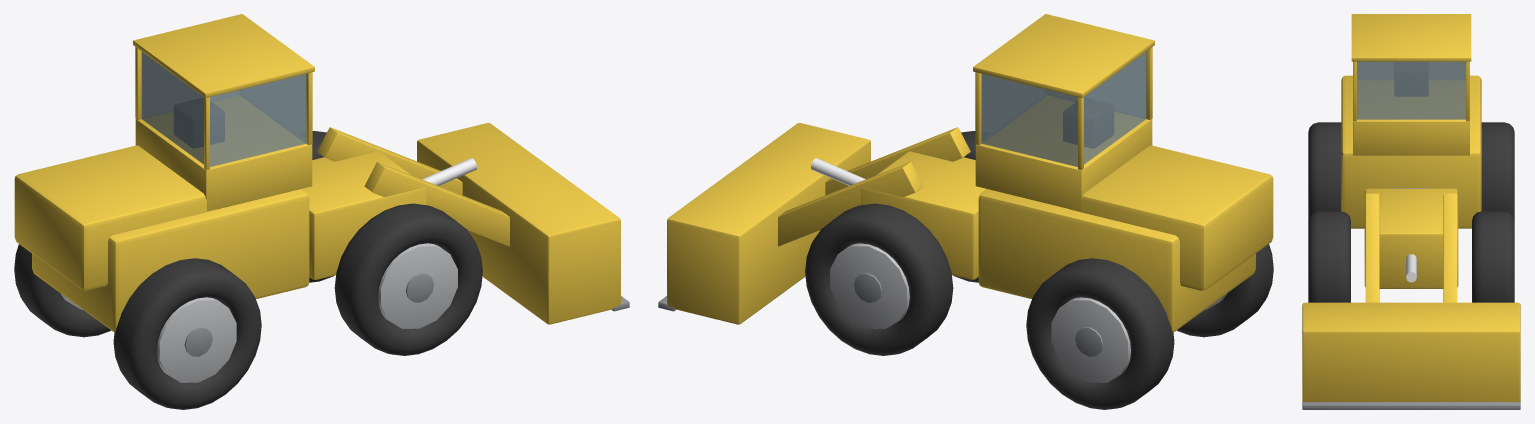
The model's file is EQP-TER-003_anim.glb.
3 views of the same model, side by side, from view 1: azimuth 30°, elevation 25°; view 2: azimuth 150°, elevation 25°; view 3: azimuth 270°, elevation 25° (orthographic). The views are drawn at different scales.
Visible parts, largest first — view 1: EQP-TER-003_anim6, EQP-TER-003_anim5, EQP-TER-003_anim0, EQP-TER-003_anim2, EQP-TER-003_anim4, EQP-TER-003_anim3; view 2: EQP-TER-003_anim6, EQP-TER-003_anim5, EQP-TER-003_anim1, EQP-TER-003_anim3, EQP-TER-003_anim4, EQP-TER-003_anim2; view 3: EQP-TER-003_anim6, EQP-TER-003_anim5, EQP-TER-003_anim0, EQP-TER-003_anim1, EQP-TER-003_anim4, EQP-TER-003_anim2, EQP-TER-003_anim3.
Boxes of the visible parts, box(x1,y1,x2,y2) form: EQP-TER-003_anim6: box(14, 14, 426, 332); EQP-TER-003_anim5: box(417, 123, 629, 324); EQP-TER-003_anim0: box(334, 203, 482, 355); EQP-TER-003_anim2: box(113, 258, 261, 409); EQP-TER-003_anim4: box(317, 127, 509, 246); EQP-TER-003_anim3: box(14, 244, 110, 337); EQP-TER-003_anim6: box(861, 14, 1273, 332); EQP-TER-003_anim5: box(658, 123, 870, 324); EQP-TER-003_anim1: box(805, 203, 953, 355); EQP-TER-003_anim3: box(1026, 258, 1174, 409); EQP-TER-003_anim4: box(778, 127, 970, 246); EQP-TER-003_anim2: box(1177, 244, 1273, 337); EQP-TER-003_anim6: box(1341, 14, 1481, 288); EQP-TER-003_anim5: box(1302, 302, 1520, 409); EQP-TER-003_anim0: box(1308, 211, 1350, 302); EQP-TER-003_anim1: box(1472, 211, 1514, 302); EQP-TER-003_anim4: box(1365, 193, 1457, 302); EQP-TER-003_anim2: box(1308, 122, 1341, 219); EQP-TER-003_anim3: box(1481, 122, 1514, 219).
Bounding box in the file's own units: 6.3 × 3.4 × 2.8.
